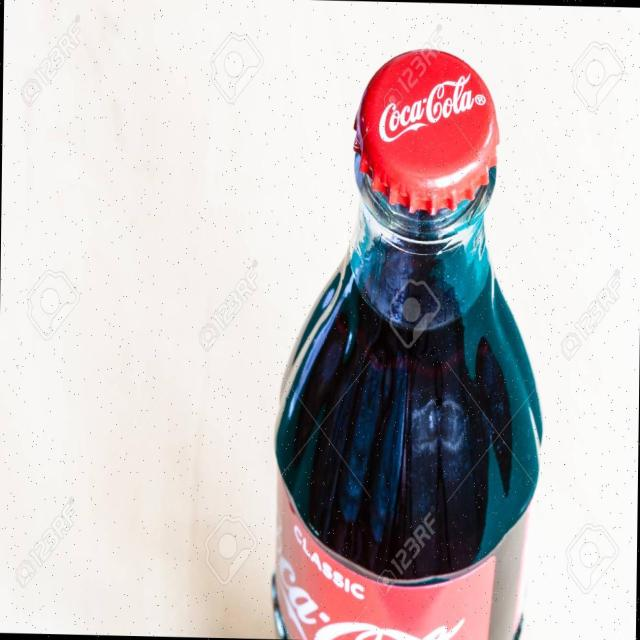coca-cola: (262, 26, 553, 640)
